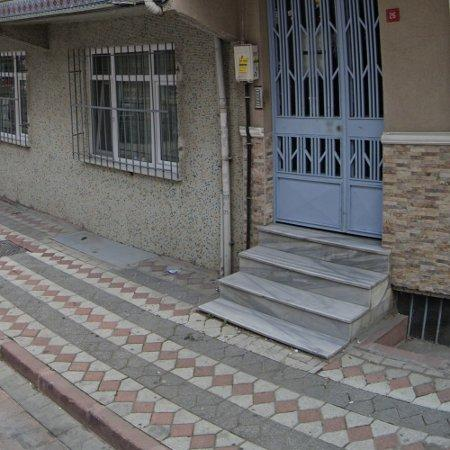stairs: (200, 223, 391, 359)
